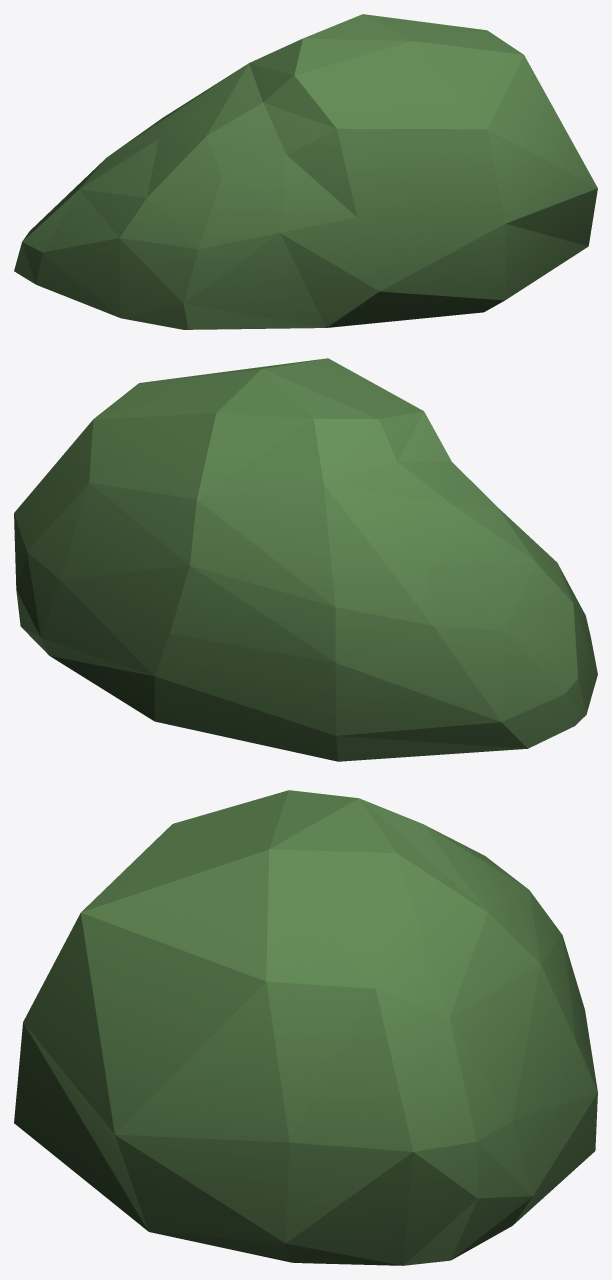
File: Jungle_Bush_C.fbx
The picture shows the model from 3 angles, top to bottom: view 1: azimuth 30°, elevation 25°; view 2: azimuth 150°, elevation 25°; view 3: azimuth 270°, elevation 25°; orthographic projection. The views are drawn at different scales.
Visible parts, largest first — view 1: Jungle_Bush_C; view 2: Jungle_Bush_C; view 3: Jungle_Bush_C.
Part boxes in pixels (x1,y1,x2,y2): Jungle_Bush_C: [14, 14, 597, 329]; Jungle_Bush_C: [14, 358, 597, 761]; Jungle_Bush_C: [14, 790, 597, 1265].
Size of the model in its own units: 2.3 by 0.9645 by 1.62.
